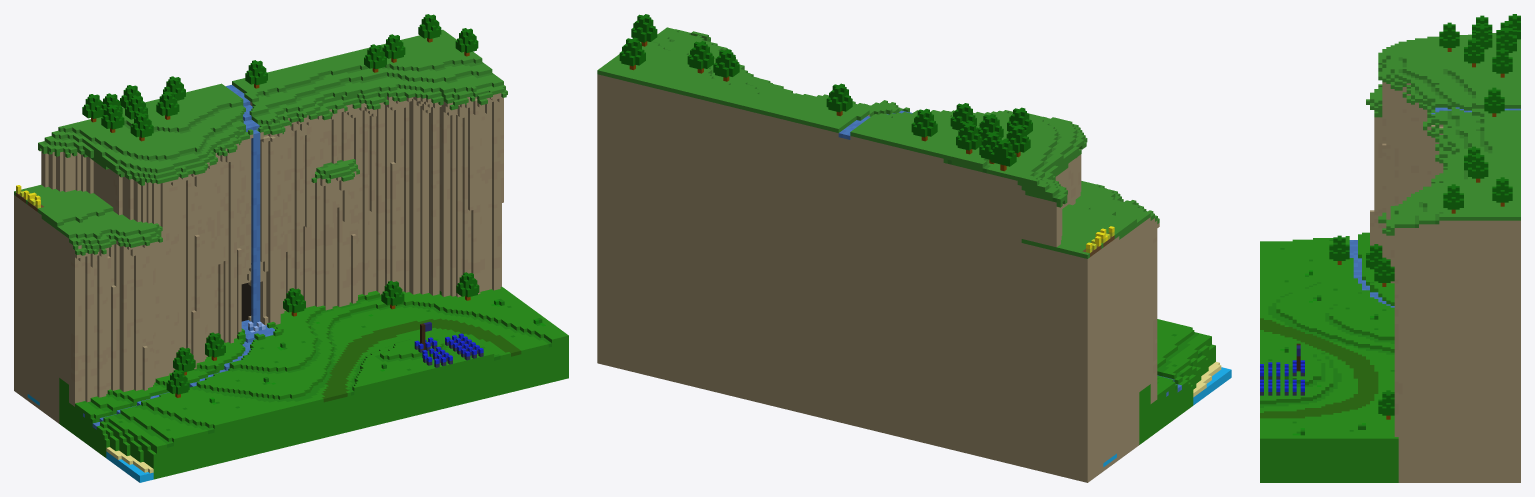
File: castle-1.obj
3 renders of one model, left to right at view 1: azimuth 30°, elevation 25°; view 2: azimuth 150°, elevation 25°; view 3: azimuth 270°, elevation 25°, orthographic. The views are drawn at different scales.
Bounding box in the file's own units: 12.6 × 7.9 × 6.4.
Materials: 1 (1 with a texture image).
